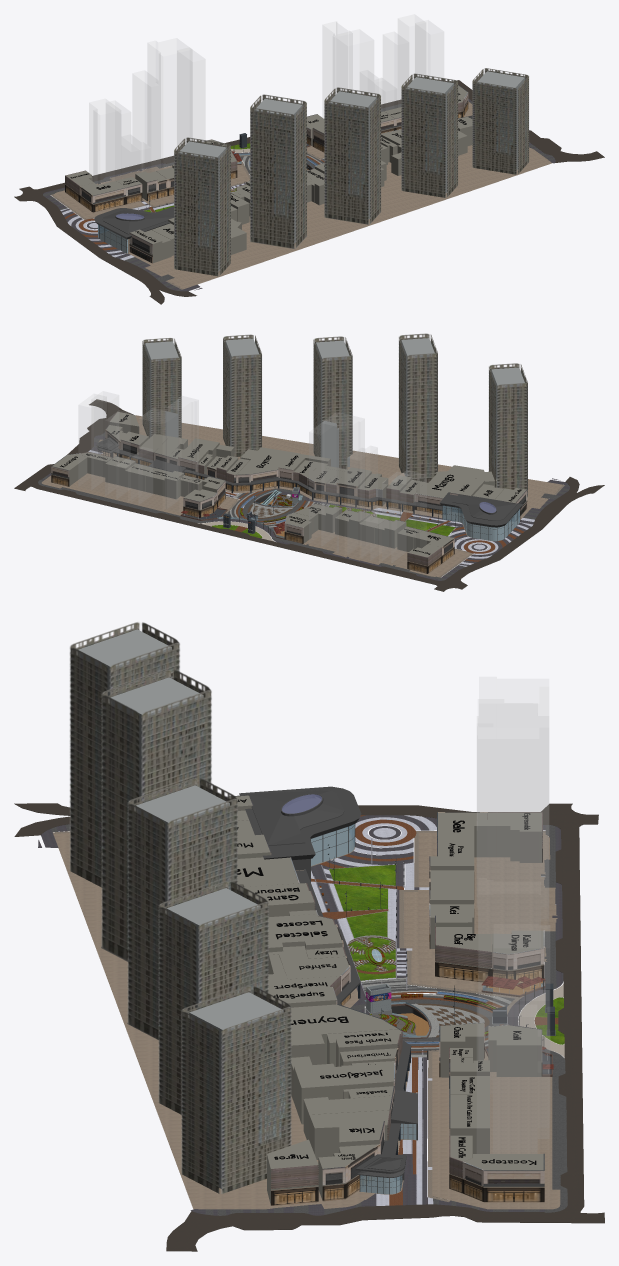
Rendered from MERKEZ_ANKARA_WEB_UPDATED.glb.
The picture shows the model from 3 angles, top to bottom: view 1: azimuth 30°, elevation 25°; view 2: azimuth 150°, elevation 25°; view 3: azimuth 270°, elevation 25°; orthographic projection. The views are drawn at different scales.
Visible parts, largest first — view 1: 04 | SAG | PNG.005, 04 | SAG | PNG.004, 04 | SAG | PNG.001, Plane.523, 04 | SAG | PNG.002, 04 | SAG | PNG.003, Plane.358, Plane.558, Plane.363, Plane.357, Plane.359, Plane.355 (+16 smaller); view 2: Plane.558, 04 | SAG | PNG.005, Plane.358, 04 | SAG | PNG.001, 04 | SAG | PNG.004, Plane.523, 04 | SAG | PNG.002, 04 | SAG | PNG.003, Plane.355, Plane.356, Plane.357, Plane.363 (+41 smaller); view 3: 04 | SAG | PNG.003, Plane.558, 04 | SAG | PNG.005, 04 | SAG | PNG.001, Plane.358, 04 | SAG | PNG.002, Plane.357, 04 | SAG | PNG.004, Plane.523, Plane.349, Plane.546, Plane.522 (+53 smaller).
Part boxes in pixels (<box>): 04 | SAG | PNG.005: <box>250,94,306,248</box>; 04 | SAG | PNG.004: <box>174,137,230,276</box>; 04 | SAG | PNG.001: <box>324,87,381,224</box>; Plane.523: <box>98,145,552,288</box>; 04 | SAG | PNG.002: <box>401,73,457,197</box>; 04 | SAG | PNG.003: <box>472,68,528,174</box>; Plane.358: <box>148,38,191,169</box>; Plane.558: <box>14,80,604,304</box>; Plane.363: <box>89,99,120,184</box>; Plane.357: <box>177,48,204,144</box>; Plane.359: <box>133,71,159,172</box>; Plane.355: <box>335,29,373,95</box>; Plane.558: <box>14,399,604,591</box>; 04 | SAG | PNG.005: <box>398,333,437,482</box>; Plane.358: <box>322,412,364,552</box>; 04 | SAG | PNG.001: <box>313,336,352,469</box>; 04 | SAG | PNG.004: <box>489,363,527,497</box>; Plane.523: <box>99,415,562,541</box>; 04 | SAG | PNG.002: <box>223,334,261,456</box>; 04 | SAG | PNG.003: <box>142,338,181,438</box>; Plane.355: <box>139,408,177,503</box>; Plane.356: <box>166,396,198,508</box>; Plane.357: <box>309,421,336,543</box>; Plane.363: <box>392,470,426,562</box>; 04 | SAG | PNG.003: <box>181,986,291,1193</box>; Plane.558: <box>14,803,604,1251</box>; 04 | SAG | PNG.005: <box>101,669,211,961</box>; 04 | SAG | PNG.001: <box>127,778,237,1039</box>; Plane.358: <box>479,677,548,920</box>; 04 | SAG | PNG.002: <box>158,881,268,1114</box>; Plane.357: <box>478,728,538,933</box>; 04 | SAG | PNG.004: <box>69,622,179,887</box>; Plane.523: <box>53,828,415,1209</box>; Plane.349: <box>477,1005,536,1153</box>; Plane.546: <box>432,1050,560,1209</box>; Plane.522: <box>404,832,557,961</box>.
Size of the model in its own units: 319 by 94.34 by 178.
Materials: 129 (80 with a texture image).
